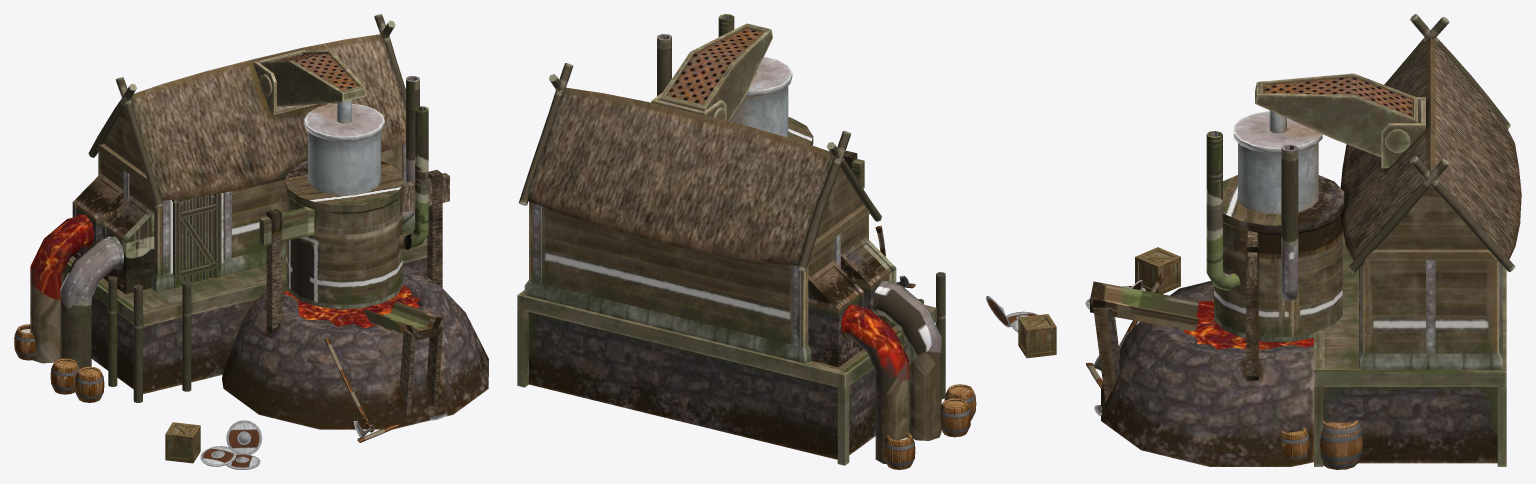
The model's file is 34-dwarvenarmory.glb.
3 renders of one model, left to right at view 1: azimuth 30°, elevation 25°; view 2: azimuth 150°, elevation 25°; view 3: azimuth 270°, elevation 25°, orthographic. The views are drawn at different scales.
Size of the model in its own units: 8.85 by 6.47 by 8.
Materials: 9 (7 with a texture image).
